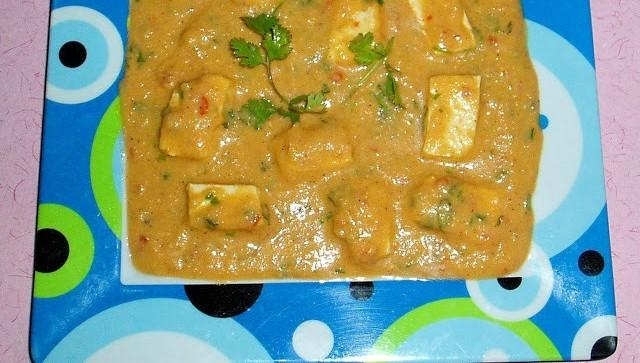ShahiPaneer: (122, 0, 543, 281)
